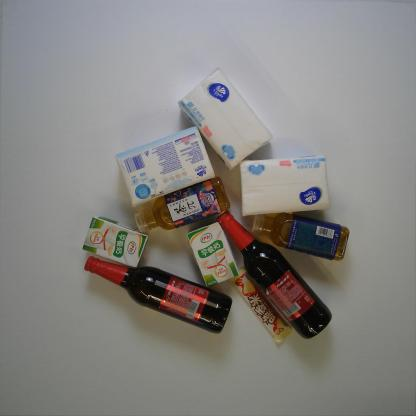Alcohol: (215, 209, 333, 340), (84, 255, 233, 335)
Chocolate: (228, 266, 294, 344)
Drink: (134, 175, 232, 235), (250, 212, 350, 262)
Milk: (186, 221, 240, 287), (81, 216, 149, 268)
Tissue: (176, 66, 274, 173), (114, 126, 216, 210), (238, 154, 332, 218)
